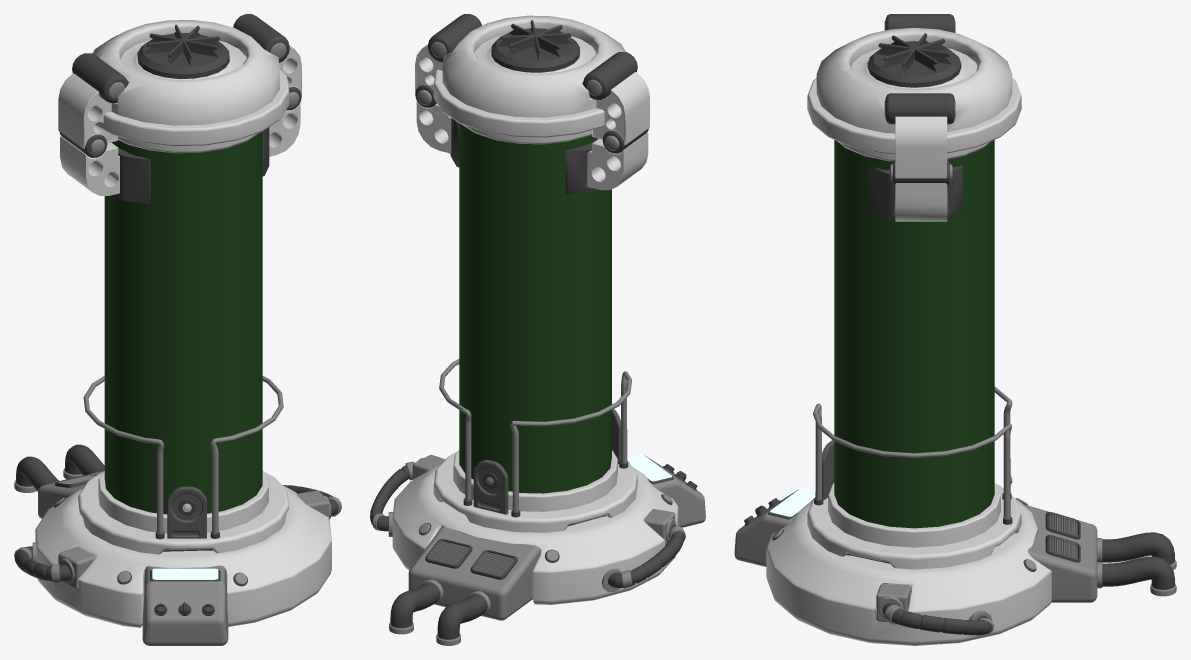
The model's file is xyz_detaildraft_capsule.glb.
The picture shows the model from 3 angles, left to right: view 1: azimuth 30°, elevation 25°; view 2: azimuth 150°, elevation 25°; view 3: azimuth 270°, elevation 25°; orthographic projection. The views are drawn at different scales.
Visible parts, largest first — view 1: polySurface10, pCylinder15, pCylinder65, pCylinder14, pCube10, pCylinder5, group8_pCube59, pCylinder4, pCylinder56, pCylinder59 (×2), group8_pCube60, pCylinder26 (+10 smaller); view 2: polySurface10, pCylinder15, pCylinder65, pCube11, pCylinder14, pCylinder5, pCylinder56, pCylinder26, group8_pCube59, pCylinder4, pCylinder59 (×2), group8_pCube60 (+10 smaller); view 3: polySurface10, pCylinder15, pCylinder65, pCylinder14, pCylinder5, pCylinder4, pCube11, pCylinder26, group8_pCube58, pCylinder59 (×2), pCylinder56, group8_pCube57 (+6 smaller).
Boxes of the visible parts, bbox=[...] form: polySurface10: bbox=[104, 131, 262, 514]; pCylinder15: bbox=[35, 485, 331, 627]; pCylinder65: bbox=[92, 20, 279, 125]; pCylinder14: bbox=[78, 471, 289, 554]; pCube10: bbox=[142, 565, 228, 645]; pCylinder5: bbox=[91, 70, 289, 146]; group8_pCube59: bbox=[58, 73, 117, 148]; pCylinder4: bbox=[98, 470, 268, 533]; pCylinder56: bbox=[83, 375, 283, 533]; pCylinder59 (×2): bbox=[72, 14, 289, 102]; group8_pCube60: bbox=[60, 136, 119, 196]; pCylinder26: bbox=[16, 444, 104, 491]; polySurface10: bbox=[459, 123, 611, 493]; pCylinder15: bbox=[392, 464, 678, 604]; pCylinder65: bbox=[442, 15, 625, 117]; pCube11: bbox=[408, 526, 540, 620]; pCylinder14: bbox=[433, 451, 637, 532]; pCylinder5: bbox=[433, 69, 613, 137]; pCylinder56: bbox=[439, 359, 631, 511]; pCylinder26: bbox=[390, 582, 487, 639]; group8_pCube59: bbox=[592, 72, 649, 144]; pCylinder4: bbox=[453, 450, 617, 511]; pCylinder59 (×2): bbox=[427, 14, 637, 99]; group8_pCube60: bbox=[587, 132, 648, 190]; polySurface10: bbox=[834, 140, 994, 528]; pCylinder15: bbox=[766, 499, 1051, 645]; pCylinder65: bbox=[816, 27, 1012, 133]; pCylinder14: bbox=[807, 484, 1021, 569]; pCylinder5: bbox=[807, 78, 1021, 154]; pCylinder4: bbox=[828, 483, 1000, 547]; pCube11: bbox=[1022, 504, 1097, 602]; pCylinder26: bbox=[1102, 532, 1174, 589]; group8_pCube58: bbox=[895, 116, 947, 178]; pCylinder59 (×2): bbox=[885, 14, 954, 124]; pCylinder56: bbox=[813, 387, 1012, 518]; group8_pCube57: bbox=[895, 183, 947, 221].
Bounding box in the file's own units: 6.83 × 11.66 × 8.7.
